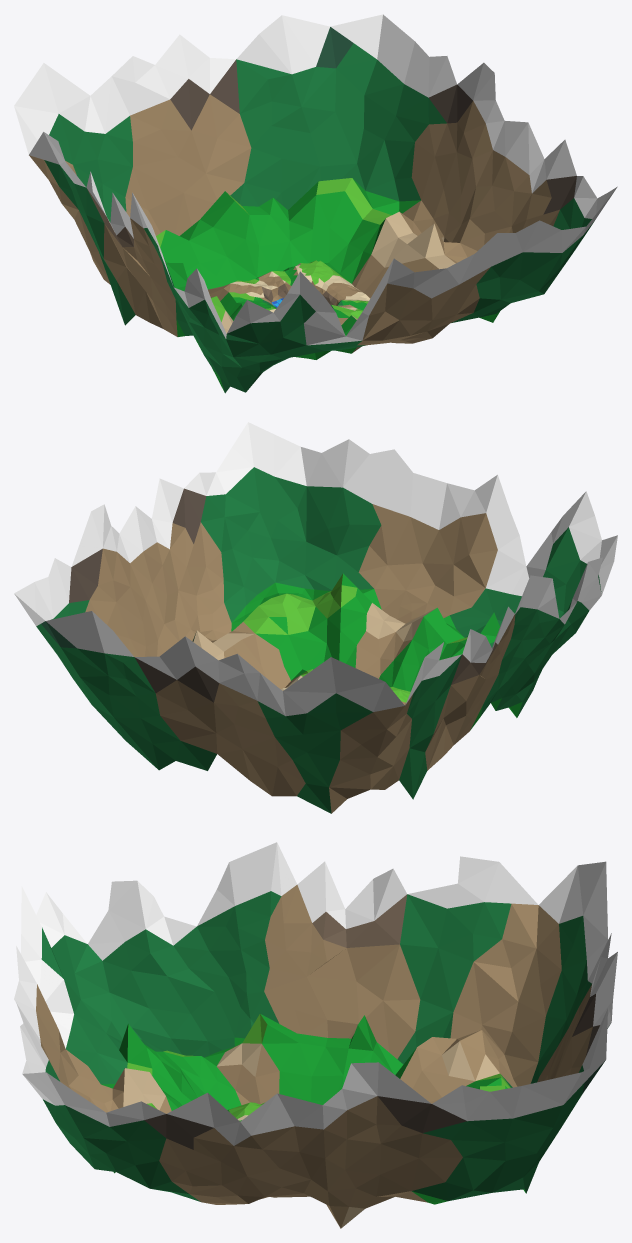
Rendered from The bowl.fbx.
The picture shows the model from 3 angles, top to bottom: view 1: azimuth 30°, elevation 25°; view 2: azimuth 150°, elevation 25°; view 3: azimuth 270°, elevation 25°; orthographic projection. The views are drawn at different scales.
Parts seen in each view (by area): view 1: Outer Ring, Inner Area; view 2: Outer Ring; view 3: Outer Ring.
Part boxes in pixels (<box>): Outer Ring: <box>14,14,617,393</box>; Inner Area: <box>239,267,362,313</box>; Outer Ring: <box>14,422,617,813</box>; Outer Ring: <box>14,842,617,1228</box>.
Bounding box in the file's own units: 33356 × 16028 × 37883.
Materials: 1 (1 with a texture image).
